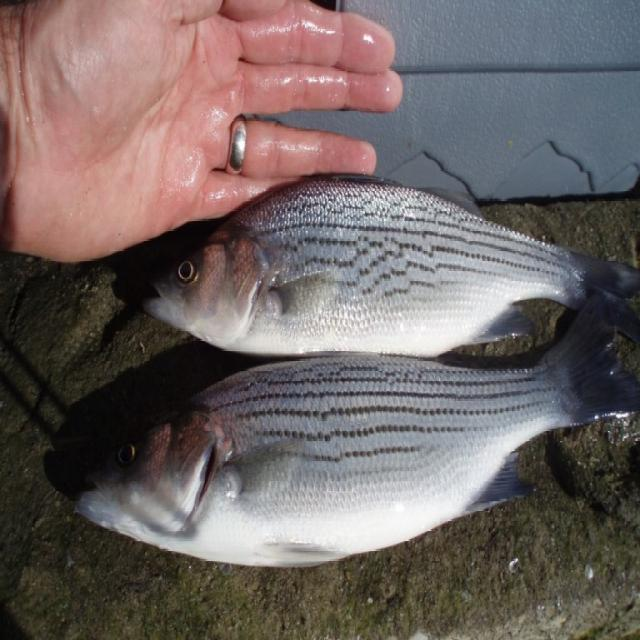Healthy Fish: (53, 353, 640, 569), (120, 167, 640, 359)
